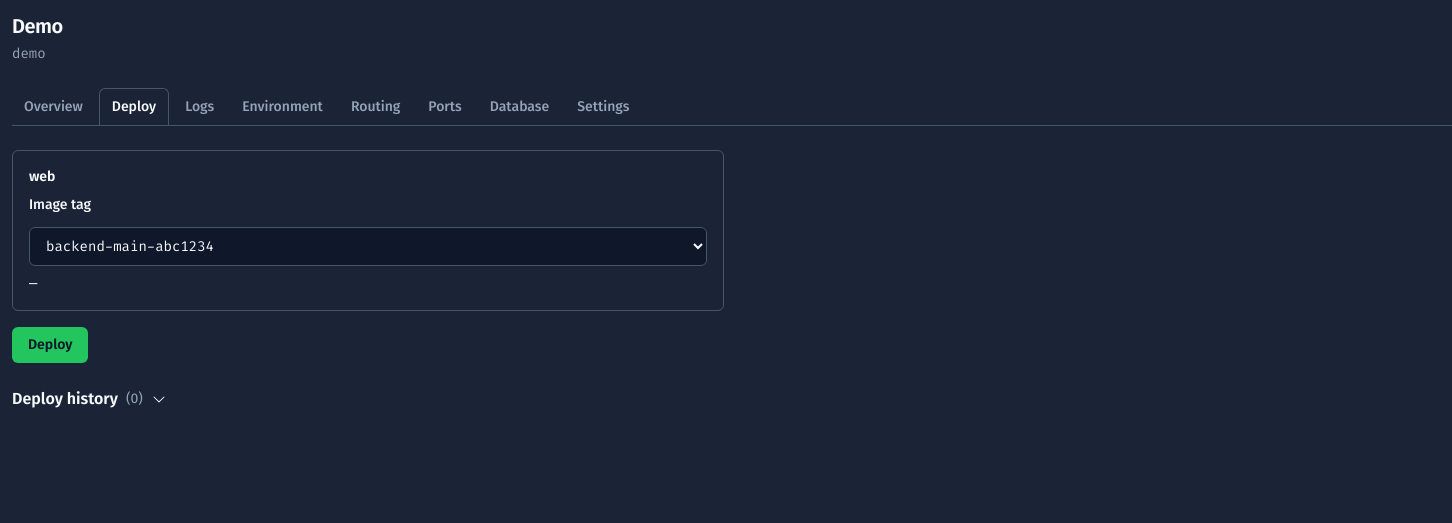
Test: ProjectPage deploy log live view › shows the deploy log box for a running deploy without waiting for the POST to finish
Click the tab "Deploy" at [134, 106], box [99,88,169,125]
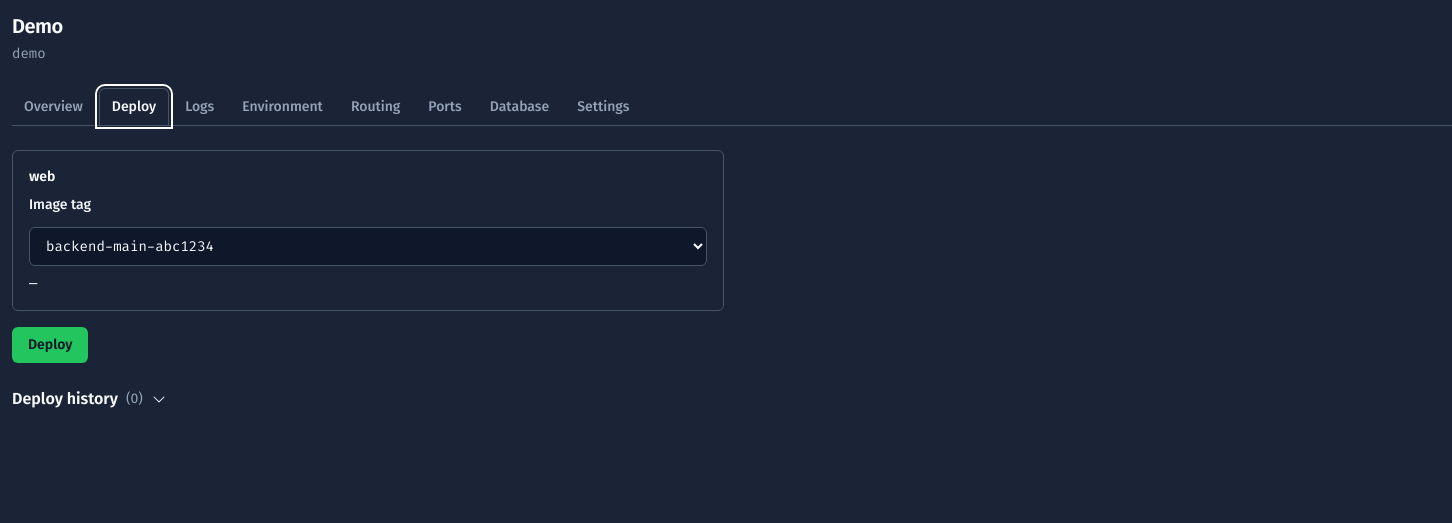
Click the button "Deploy" at [50, 345], box [12,327,88,363]
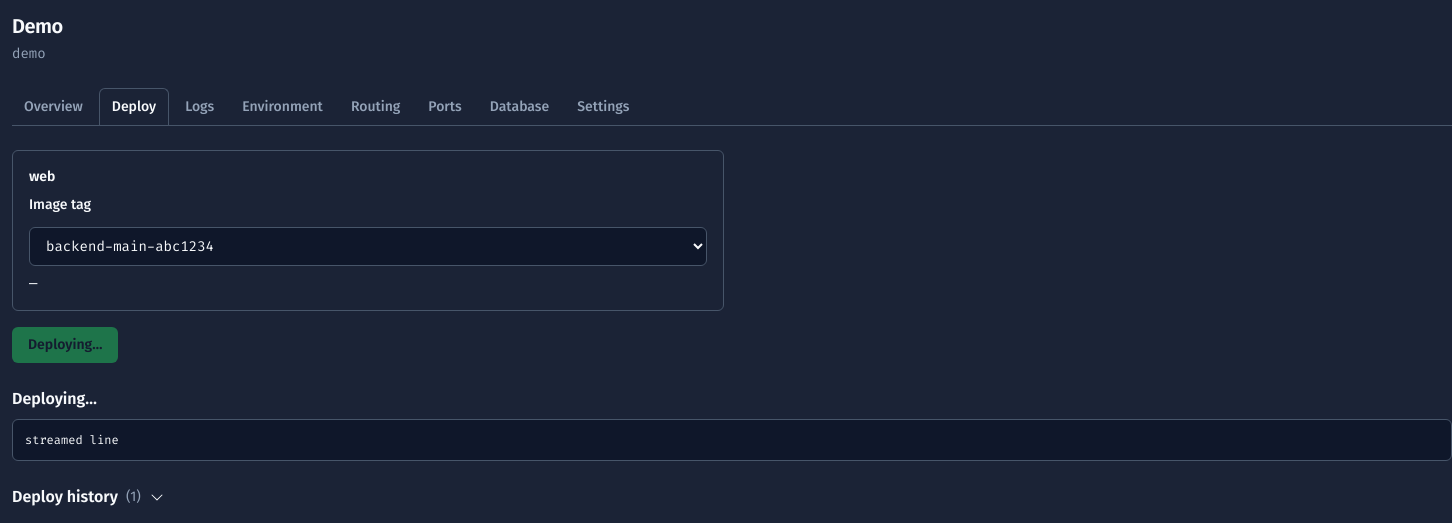
Now the text "streamed line" is shown, box [12,419,1451,461]
